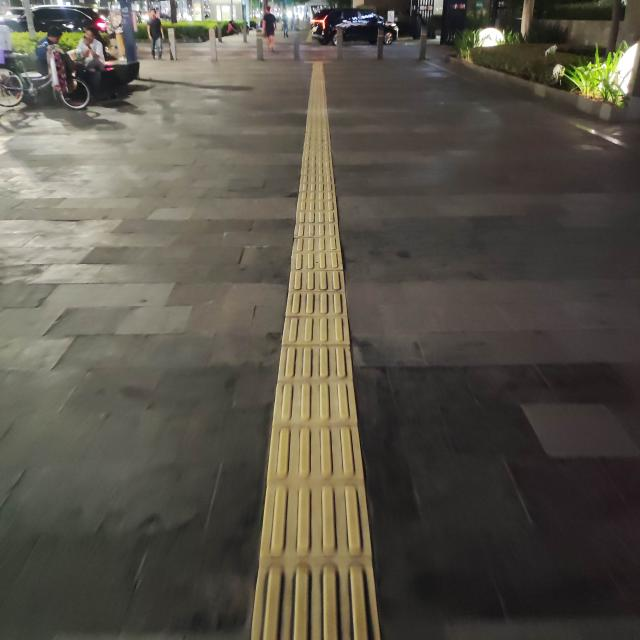lurus: (267, 103, 369, 640)
